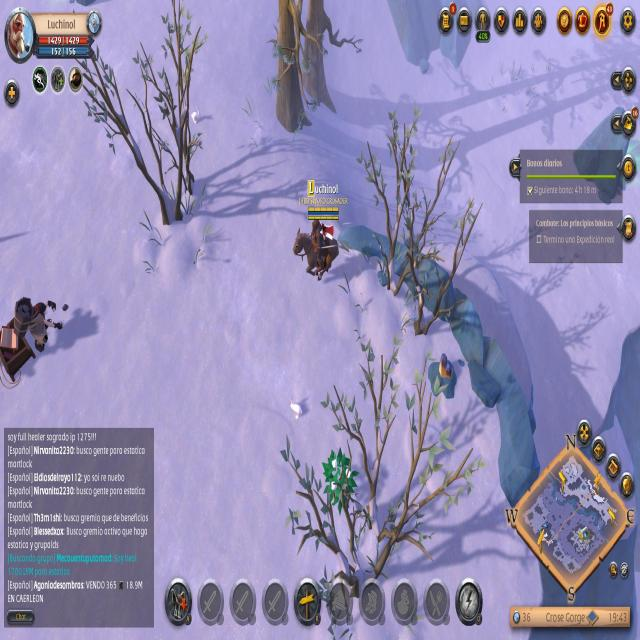piedra_cobre: (426, 350, 460, 406)
